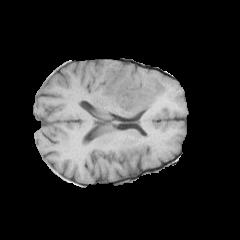glioma: (101, 66, 168, 116)
